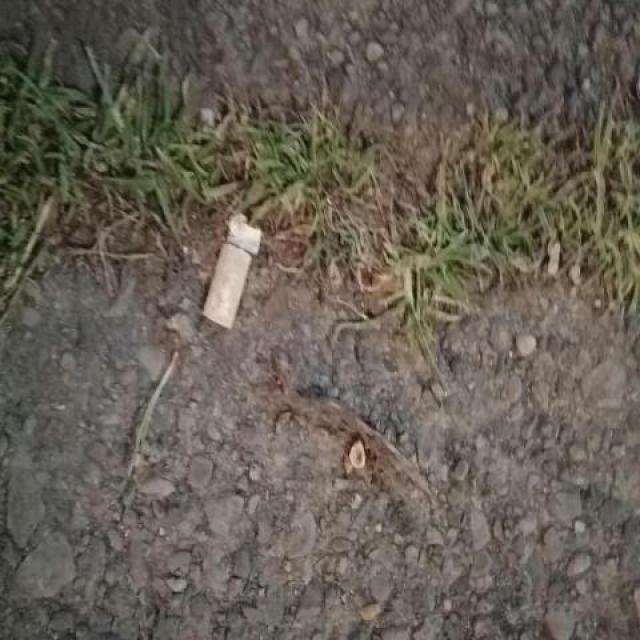non-organic waste: (199, 210, 265, 334)
